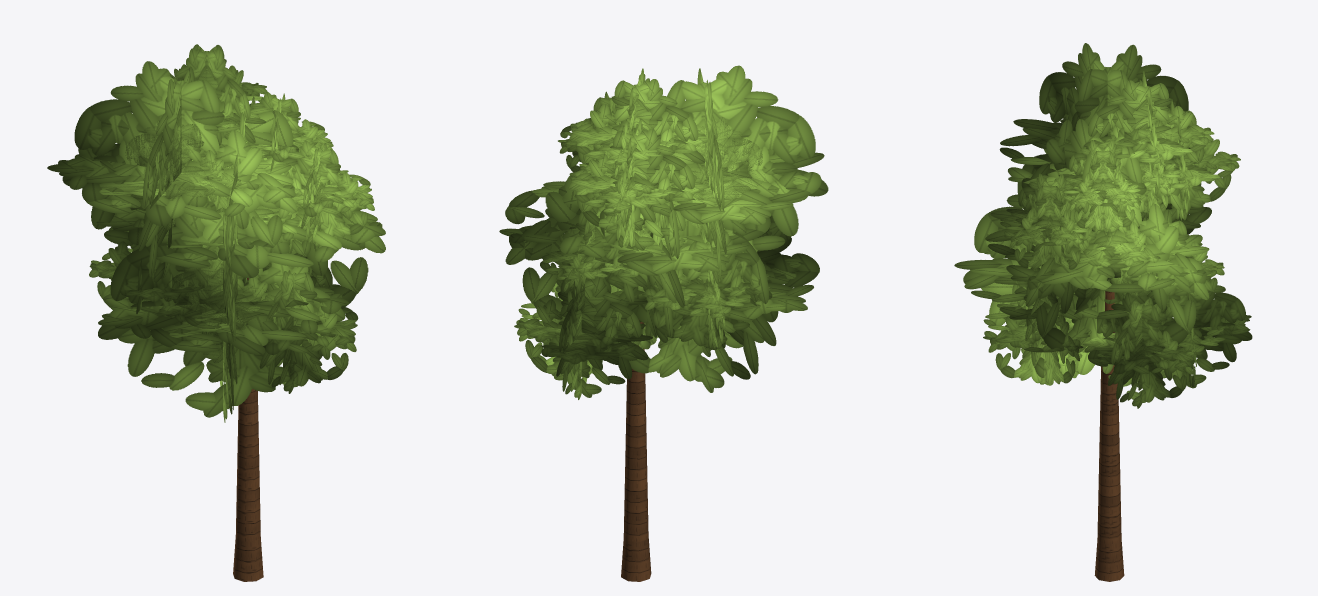
File: flora_birch.glb
The picture shows the model from 3 angles, left to right: view 1: azimuth 30°, elevation 25°; view 2: azimuth 150°, elevation 25°; view 3: azimuth 270°, elevation 25°; orthographic projection. The views are drawn at different scales.
Visible parts, largest first — view 1: CrownFar, Crown, Trunk; view 2: CrownFar, Crown, Trunk; view 3: Crown, CrownFar, Trunk.
Part boxes in pixels (box(x1,y1,x2,y2)): CrownFar: box(47, 61, 385, 422); Crown: box(89, 44, 374, 393); Trunk: box(233, 278, 263, 581); CrownFar: box(499, 65, 828, 392); Crown: box(514, 68, 772, 399); Trunk: box(621, 322, 651, 581); Crown: box(983, 71, 1252, 408); CrownFar: box(954, 43, 1212, 378); Trunk: box(1094, 291, 1124, 581).
Size of the model in its own units: 6.53 by 8.08 by 5.84.
2 materials, 2 textured.
